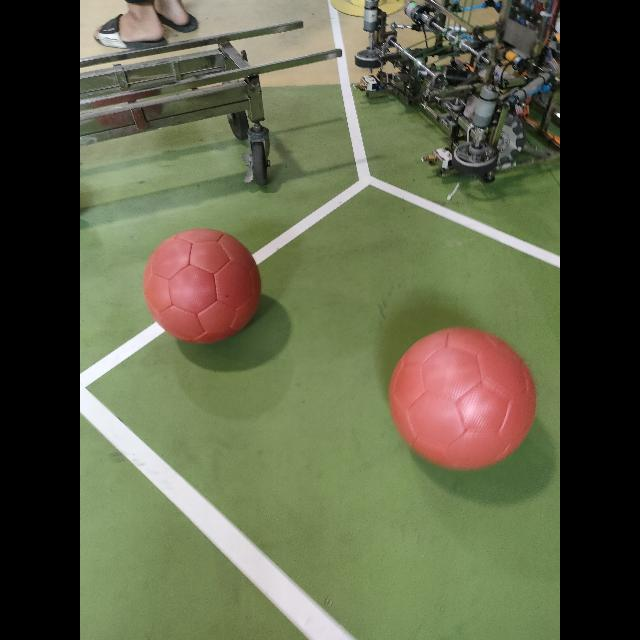R: (388, 328, 536, 469), (144, 229, 260, 343)
